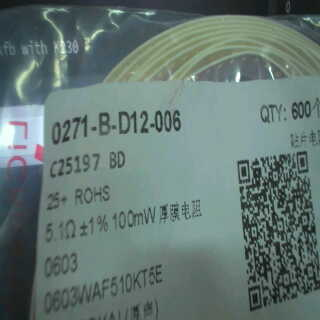5.1R: (41, 217, 80, 248)
